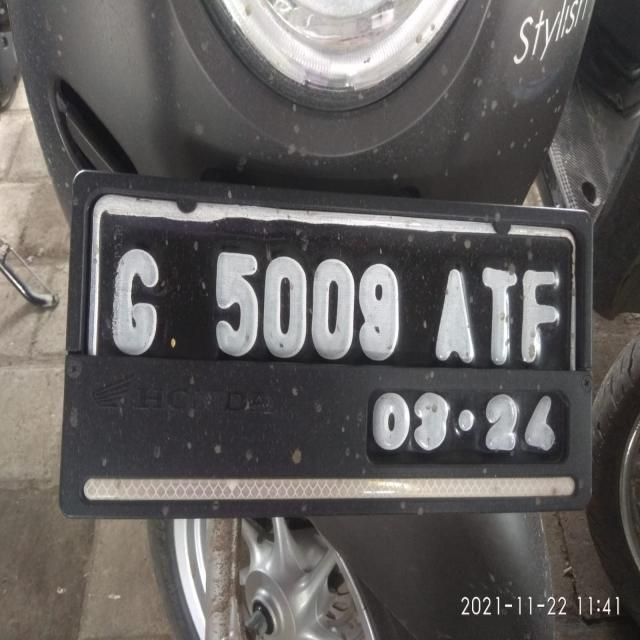plate: (75, 173, 594, 506)
